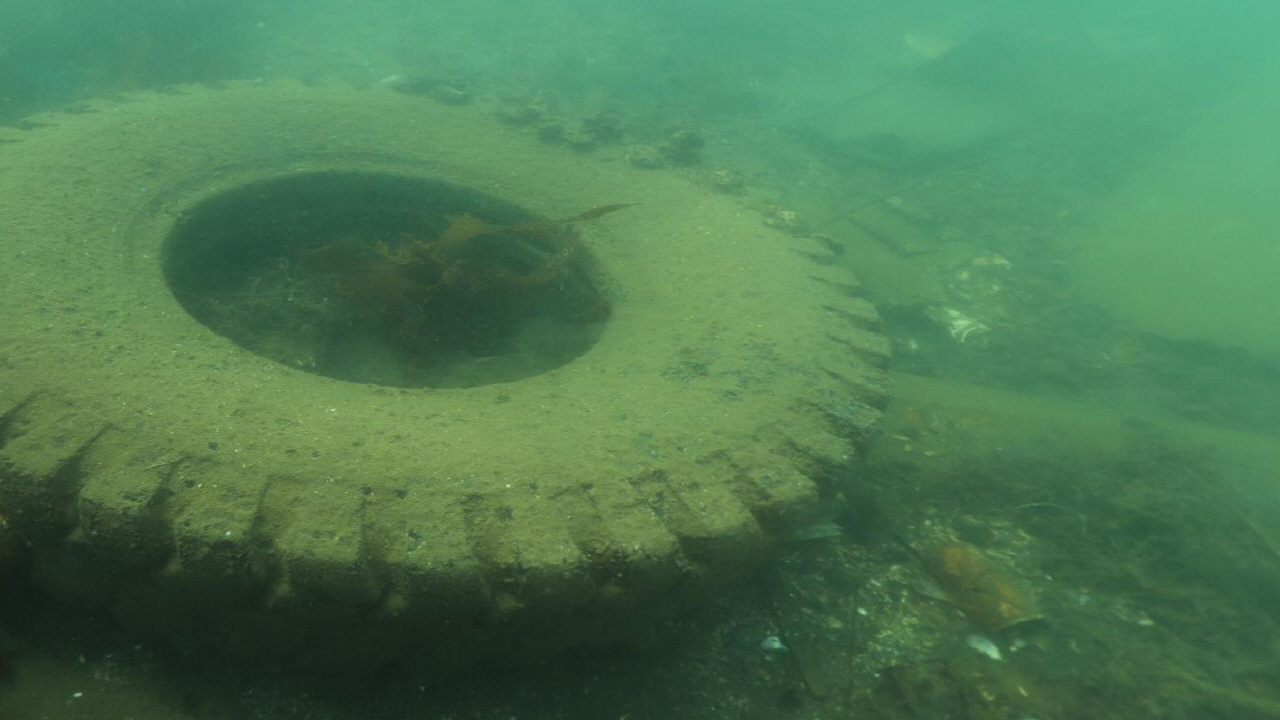tire: (0, 67, 896, 676)
